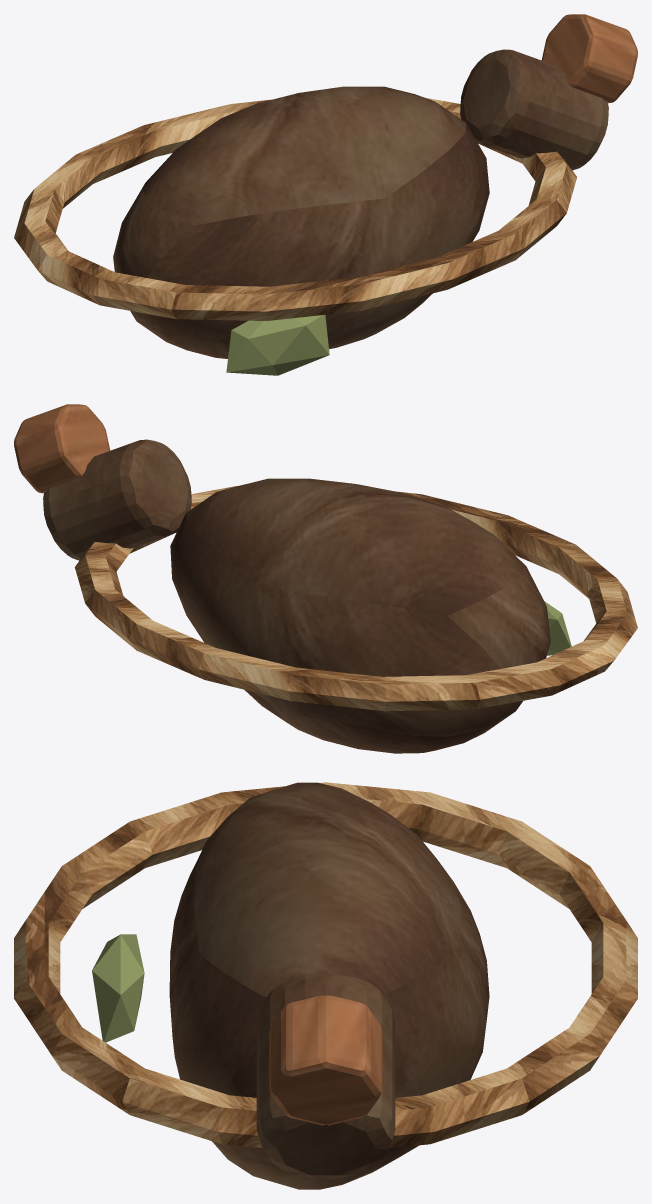
File: waterskin_dirty.glb
The picture shows the model from 3 angles, top to bottom: view 1: azimuth 30°, elevation 25°; view 2: azimuth 150°, elevation 25°; view 3: azimuth 270°, elevation 25°; orthographic projection. The views are drawn at different scales.
Visible parts, largest first — view 1: model; view 2: model; view 3: model.
Part boxes in pixels (left/top/right/bottom): model: left=14, top=14, right=637, bottom=375; model: left=14, top=404, right=637, bottom=753; model: left=14, top=782, right=637, bottom=1189.
Bounding box in the file's own units: 0.3218 × 0.1336 × 0.2127.
Materials: 4 (3 with a texture image).
